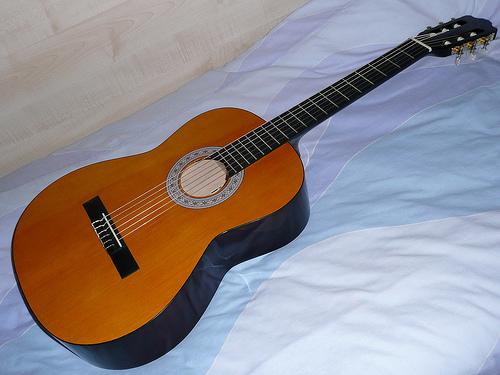guitar: (9, 14, 498, 370)
